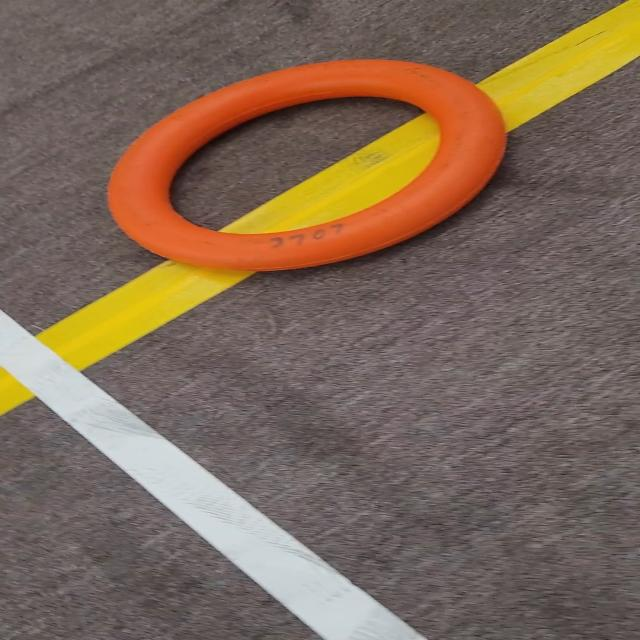note: (93, 59, 563, 284)
